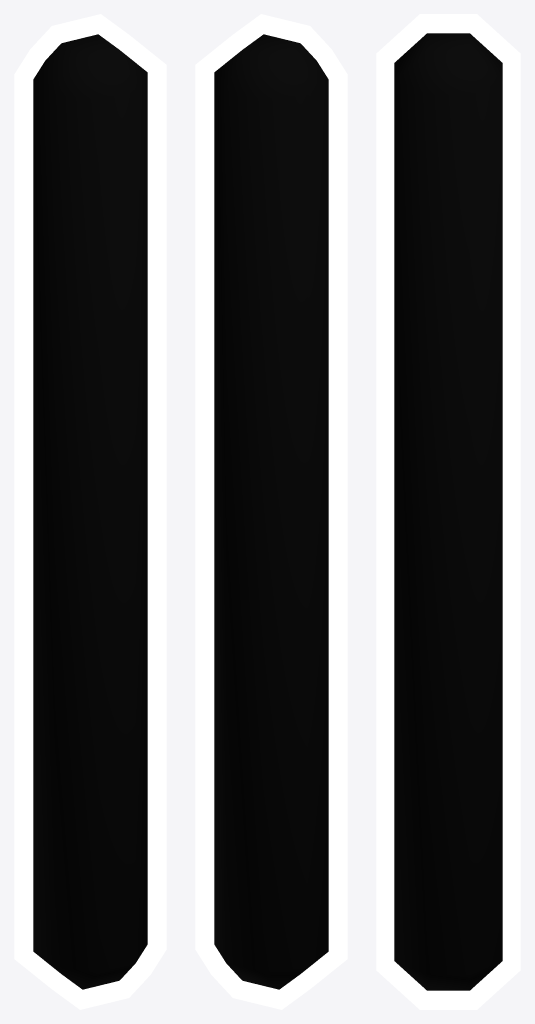
File: characterBody.glb
The picture shows the model from 3 angles, left to right: view 1: azimuth 30°, elevation 25°; view 2: azimuth 150°, elevation 25°; view 3: azimuth 270°, elevation 25°; orthographic projection.
Visible parts, largest first — view 1: Body, BodyOutline; view 2: Body, BodyOutline; view 3: Body, BodyOutline.
Boxes of the visible parts, box(x1,y1,x2,y2) form: Body: box(33, 34, 147, 989); BodyOutline: box(14, 14, 166, 1009); Body: box(214, 34, 328, 989); BodyOutline: box(195, 14, 347, 1009); Body: box(394, 33, 502, 990); BodyOutline: box(376, 14, 520, 1009).
Size of the model in its own units: 0.000137 by 0.00102 by 0.000137.
2 materials, 2 textured.
